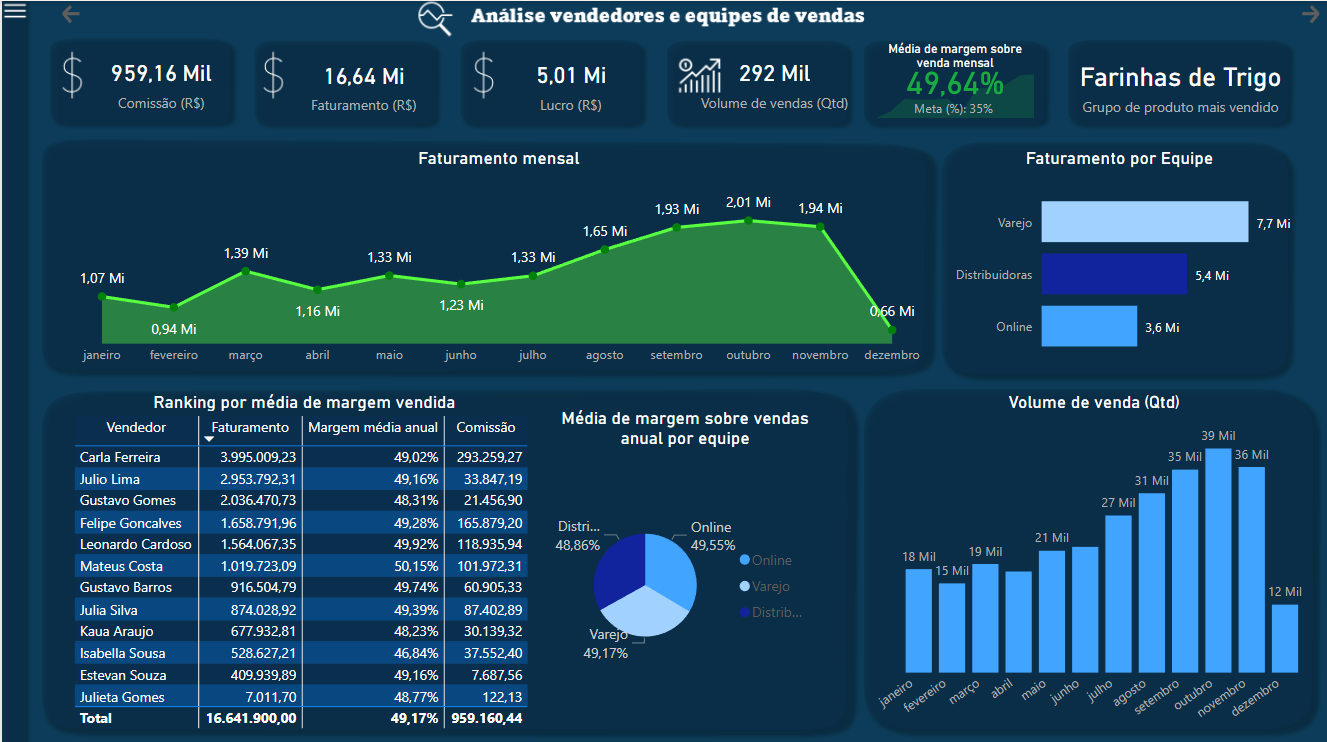

The page's visual inventory and layout, read from the dashboard file:
{"tool":"powerbi","page":{"name":"Dash_vendedores_equipes","canvas":[1280,720],"ordinal":1},"visuals":[{"type":"tableEx","title":"Ranking por média de margem vendida","fields":{"Values":["Dim_vendedores.Vendedor","Medidas.Faturamento","Avg(Fato_vendas.Margem)","Sum(Fato_vendas.Comissão_vendas)"]},"box":[63.9,376.3,455.9,337.7],"z":0},{"type":"pieChart","title":"Média de margem sobre vendas anual  por equipe","fields":{"Category":["Dim_vendedores.Equipe_Vendas"],"Y":["Avg(Fato_vendas.Margem)"]},"box":[525.8,392,266.5,305.1],"z":1000},{"type":"card","fields":{"Values":["Medidas.Faturamento"]},"box":[278.6,38.6,141.1,84.4],"z":2000},{"type":"card","fields":{"Values":["Medidas.Lucro"]},"box":[480,37.4,137.5,85.6],"z":3000},{"type":"card","fields":{"Values":["Medidas.Volume_vendas"]},"box":[669.3,36.2,152,84.4],"z":4000},{"type":"card","fields":{"Values":["Min(Dim_produtos.Grupo_Produto)"]},"box":[1026.3,38.6,221.9,84.4],"z":5000},{"type":"card","fields":{"Values":["Medidas.Comissao_vendas"]},"box":[80.8,36.2,145.9,84.4],"z":6000},{"type":"areaChart","title":"Faturamento mensal ","fields":{"Category":["Tb_calendario.Date.Variation.Hierarquia de datas.Mês"],"Y":["Medidas.Faturamento"]},"box":[63.9,141.1,831,218.3],"z":7000},{"type":"clusteredBarChart","title":"Faturamento por Equipe","fields":{"Y":["Medidas.Faturamento"],"Category":["Dim_vendedores.Equipe_Vendas"]},"box":[908.1,141.1,340.1,219.5],"z":8000},{"type":"kpi","title":"Média de margem sobre venda mensal","fields":{"Indicator":["Avg(Fato_vendas.Margem)"],"Goal":["Medidas.Condicao_margem_produto"],"TrendLine":["Tb_calendario.Date.Variation.Hierarquia de datas.Mês"]},"box":[838.2,38.6,162.8,79.6],"z":9000},{"type":"clusteredColumnChart","title":"Volume de venda (Qtd)","fields":{"Category":["Tb_calendario.Date.Variation.Hierarquia de datas.Mês"],"Y":["Medidas.Volume_vendas"]},"box":[838.2,376.3,430.6,337.7],"z":10000},{"type":"actionButton","box":[0,0,27.7,21.7],"z":12000},{"type":"actionButton","box":[1249.4,0,30.2,25.3],"z":13000},{"type":"actionButton","box":[54.3,0,26.5,25.3],"z":14000}]}

Visuals, with their boxes on the page's 1280x720 design canvas (x1, y1, x2, y2). These are canvas units, not pixel positions in the 1327x742 screenshot, which may show the page scaled, cropped or inside an application window:
"Ranking por média de margem vendida" tableEx: box(64, 376, 520, 714)
"Média de margem sobre vendas anual  por equipe" pieChart: box(526, 392, 792, 697)
card - Medidas.Faturamento: box(279, 39, 420, 123)
card - Medidas.Lucro: box(480, 37, 618, 123)
card - Medidas.Volume_vendas: box(669, 36, 821, 121)
card - Min(Dim_produtos.Grupo_Produto): box(1026, 39, 1248, 123)
card - Medidas.Comissao_vendas: box(81, 36, 227, 121)
"Faturamento mensal " areaChart: box(64, 141, 895, 359)
"Faturamento por Equipe" clusteredBarChart: box(908, 141, 1248, 361)
"Média de margem sobre venda mensal" kpi: box(838, 39, 1001, 118)
"Volume de venda (Qtd)" clusteredColumnChart: box(838, 376, 1269, 714)
actionButton: box(0, 0, 28, 22)
actionButton: box(1249, 0, 1280, 25)
actionButton: box(54, 0, 81, 25)
